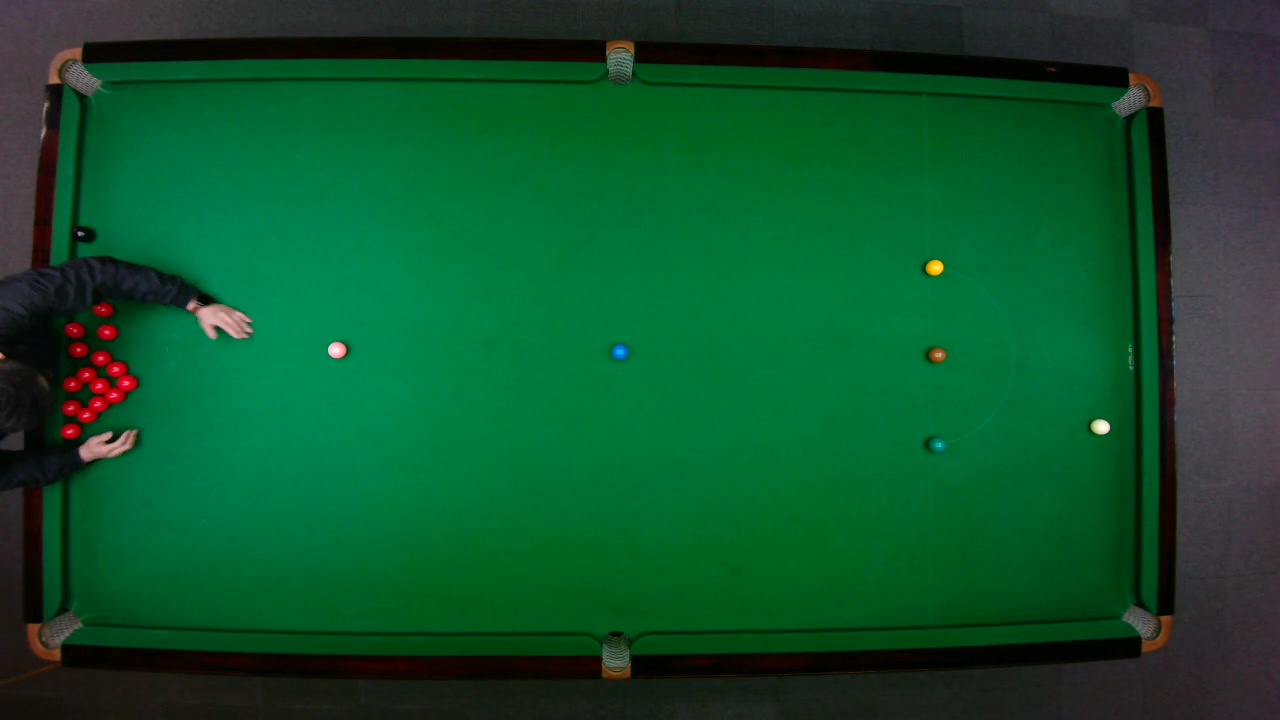bag: (25, 609, 83, 661), (46, 46, 102, 96), (1119, 603, 1171, 652), (1108, 71, 1161, 118), (600, 629, 630, 680), (605, 38, 633, 85)
black: (70, 225, 93, 242)
blue: (610, 342, 628, 360)
brown: (926, 346, 946, 362)
green: (926, 434, 946, 452)
pink: (326, 339, 347, 359)
red: (58, 420, 82, 441), (114, 372, 138, 392), (103, 359, 128, 378), (59, 397, 82, 417), (88, 348, 112, 367), (63, 319, 85, 339), (60, 373, 83, 392), (85, 394, 109, 412), (65, 340, 89, 358), (73, 365, 97, 383), (95, 322, 118, 340), (87, 376, 110, 394), (73, 406, 98, 422), (92, 300, 114, 318), (102, 386, 124, 404)
white: (1088, 417, 1111, 435)
yellow: (923, 258, 944, 276)
zone: (926, 265, 1014, 444)
